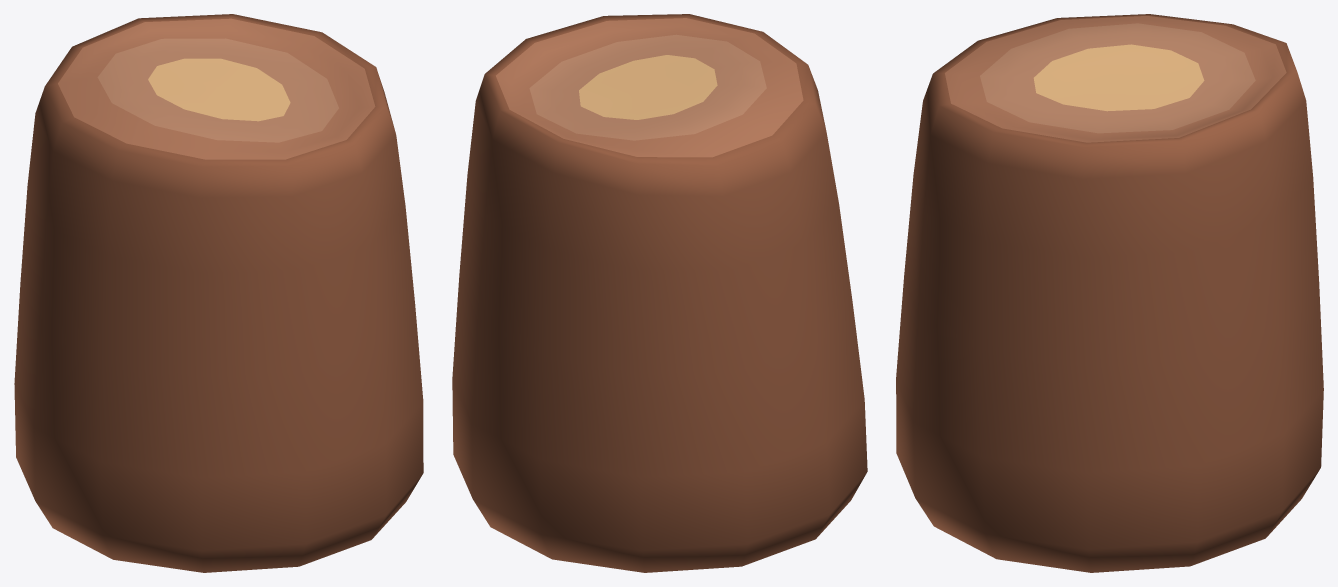
The model's file is Stump_A_03.fbx.
3 renders of one model, left to right at view 1: azimuth 30°, elevation 25°; view 2: azimuth 150°, elevation 25°; view 3: azimuth 270°, elevation 25°, orthographic. The views are drawn at different scales.
Visible parts, largest first — view 1: Stump_A_03_LOD0; view 2: Stump_A_03_LOD0; view 3: Stump_A_03_LOD0.
Part boxes in pixels (box(x1,y1,x2,y2)): Stump_A_03_LOD0: box(14, 14, 423, 572); Stump_A_03_LOD0: box(452, 14, 867, 572); Stump_A_03_LOD0: box(896, 14, 1323, 572).
Size of what is drawn, in the model's own units: 152 by 171 by 155.
